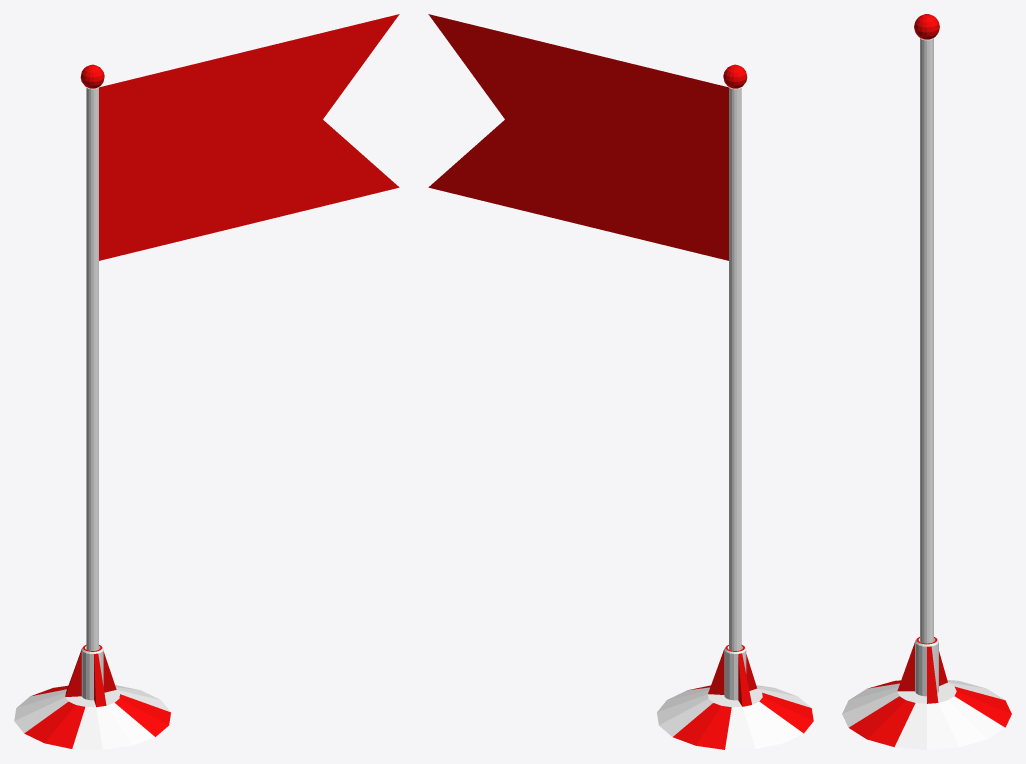
File: флажок .fbx
3 renders of one model, left to right at view 1: azimuth 30°, elevation 25°; view 2: azimuth 150°, elevation 25°; view 3: azimuth 270°, elevation 25°, orthographic. The views are drawn at different scales.
Parts seen in each view (by area): view 1: Цилиндр, Цилиндр.001; view 2: Цилиндр, Цилиндр.001; view 3: Цилиндр.001, Цилиндр.
Boxes of the visible parts, <box> form: Цилиндр: <box>80,14,399,650</box>; Цилиндр.001: <box>14,645,170,749</box>; Цилиндр: <box>428,14,747,650</box>; Цилиндр.001: <box>657,645,813,749</box>; Цилиндр.001: <box>842,637,1011,749</box>; Цилиндр: <box>914,14,939,643</box>.
Size of the model in its own units: 596 by 987 by 218.
